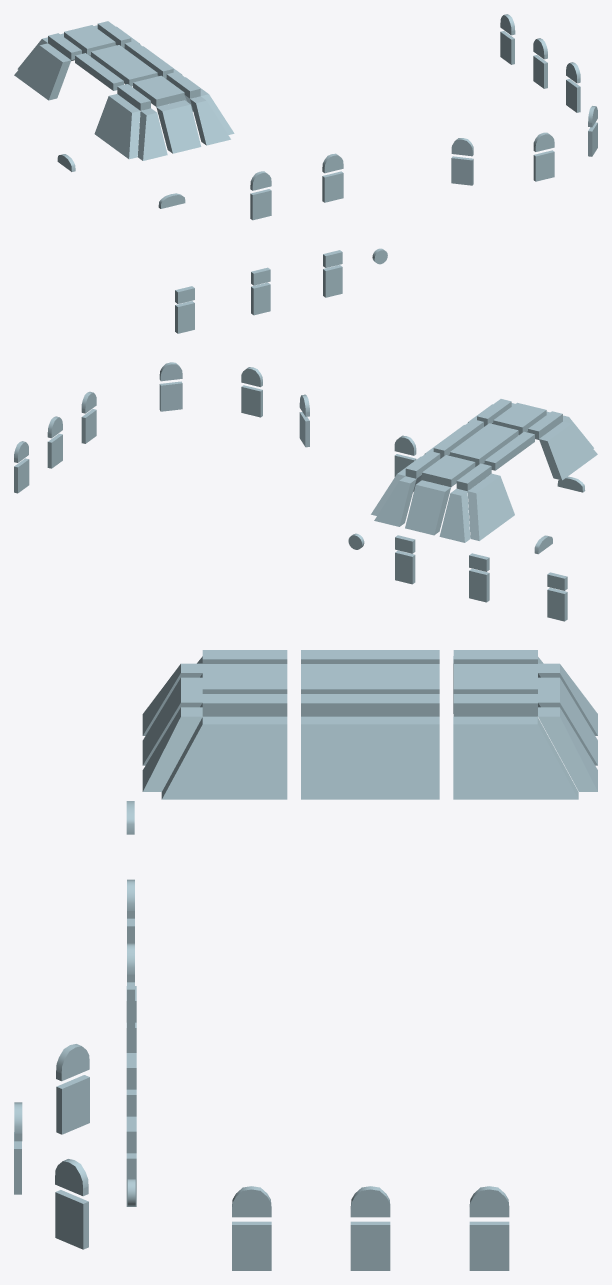
File: cristales.obj
3 renders of one model, top to bottom at view 1: azimuth 30°, elevation 25°; view 2: azimuth 150°, elevation 25°; view 3: azimuth 270°, elevation 25°, orthographic. The views are drawn at different scales.
Parts seen in each view (by area): view 1: pasted__polySurface5; view 2: pasted__polySurface5; view 3: pasted__polySurface5.
Boxes of the visible parts, box(x1,y1,x2,y2) form: pasted__polySurface5: box(14, 14, 597, 333); pasted__polySurface5: box(14, 362, 597, 621); pasted__polySurface5: box(14, 650, 597, 1270).
Bounding box in the file's own units: 25.23 × 11.05 × 14.74.
1 material, 1 textured.
